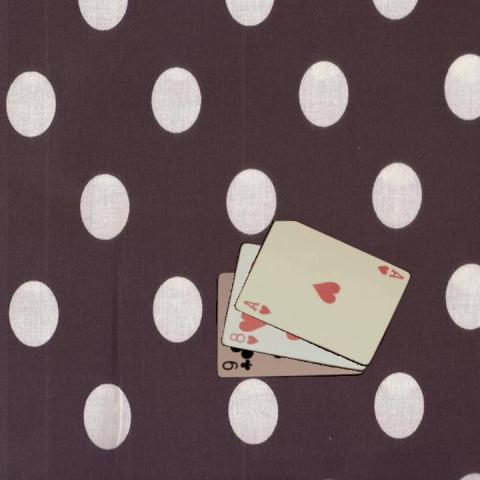8h: (226, 330, 260, 346)
9c: (219, 359, 253, 372)
Ah: (240, 297, 272, 316), (374, 262, 405, 281)
